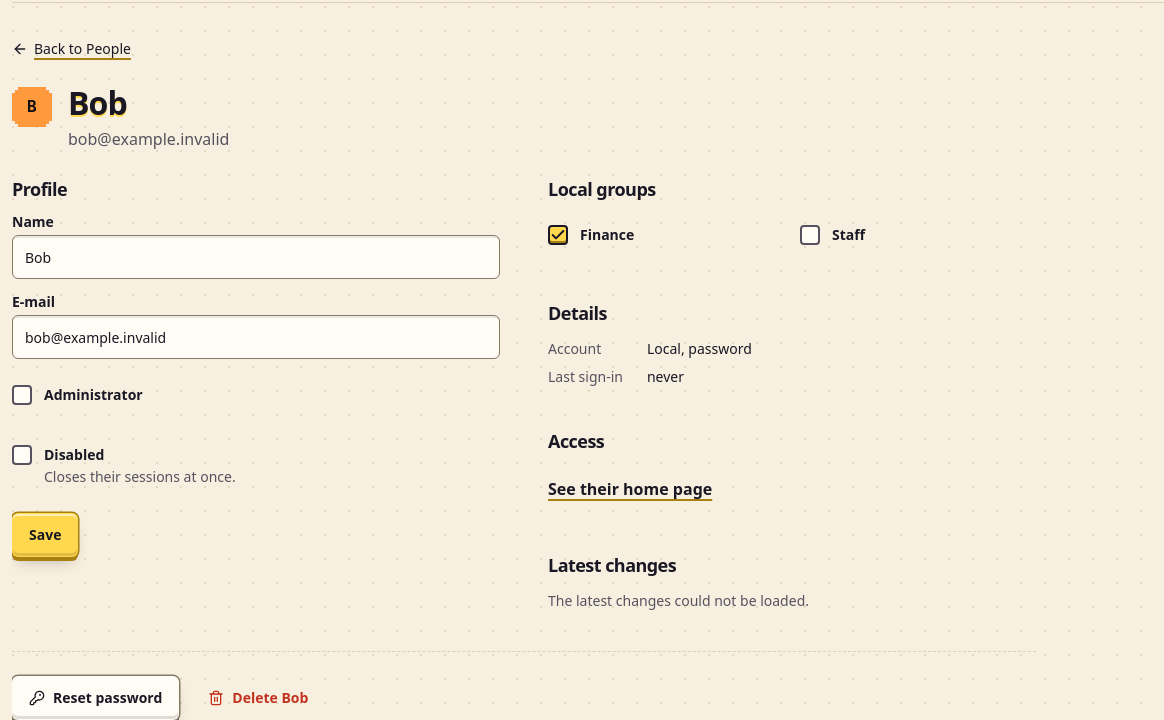
Test: PersonPage › keeps a password not noted yet when the admin goes back to the list, and recalls it there
This screenshot has width=1164, height=720.
(page scrolled)
Expected: the heading "Bob" is shown, [68,81,127,124]
Click the button "Reset password" at coordinates (96, 698), box [12,676,179,719]
(page scrolled)
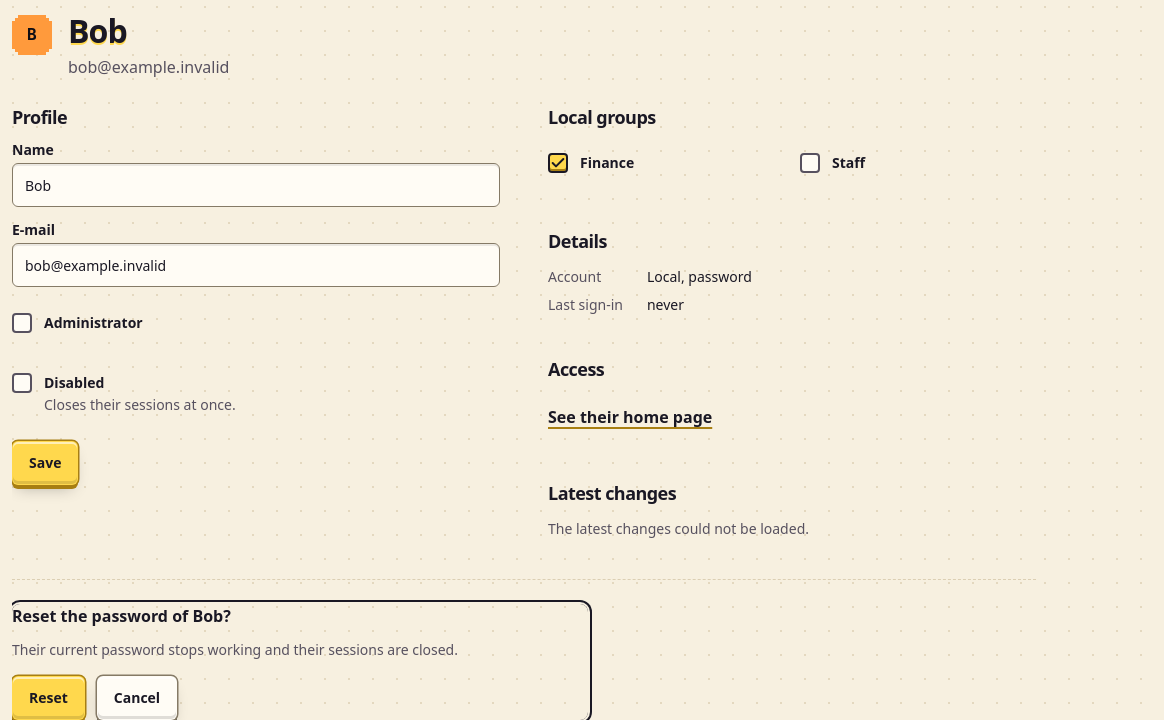
Click the button "Reset" at coordinates (48, 698), box [12,676,85,719]
(page scrolled)
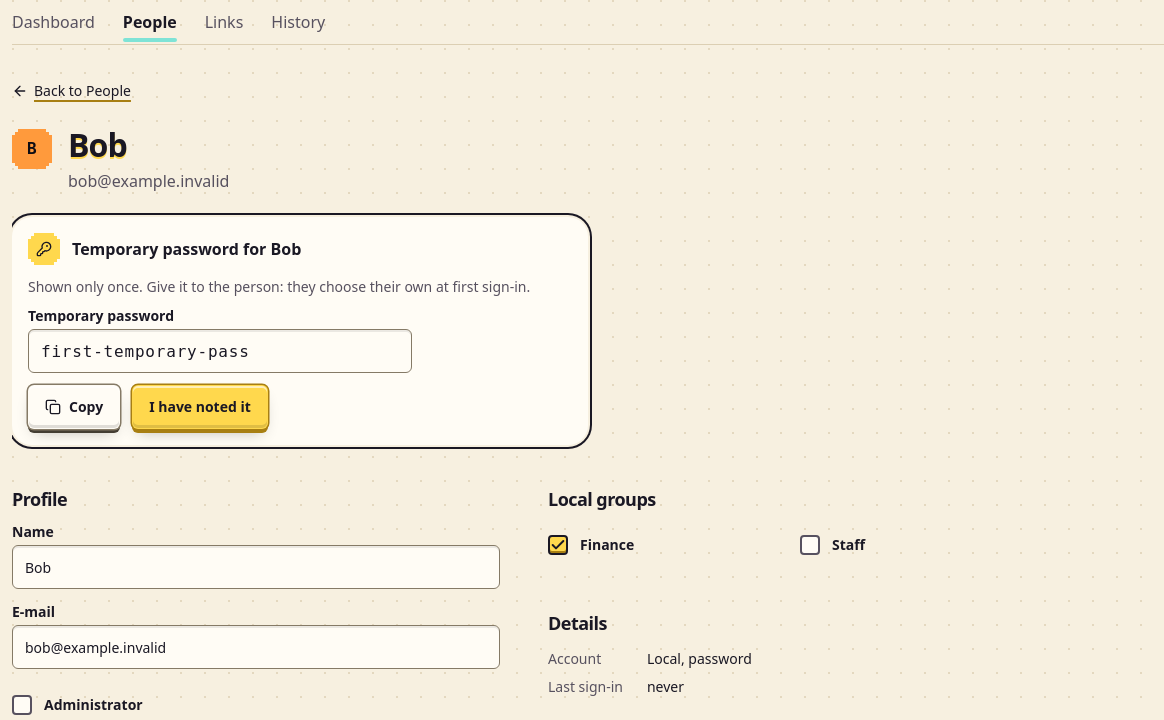
Result: the element "Temporary password for Bob" is shown at [12,217,588,445]
Click the link "Back to People" at coordinates (71, 90), box [12,81,131,100]
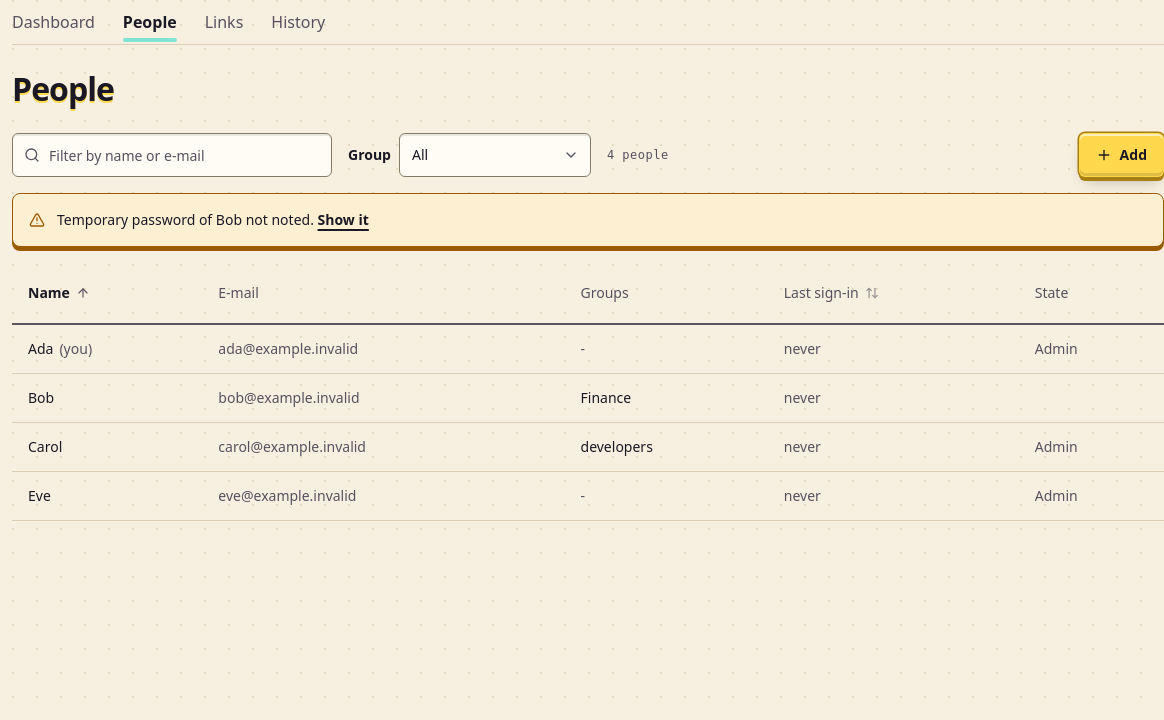
Result: the text "Temporary password of Bob not noted." is shown at [57,210,314,229]
Click the link "Show it" at coordinates (343, 220), box [318,210,369,229]
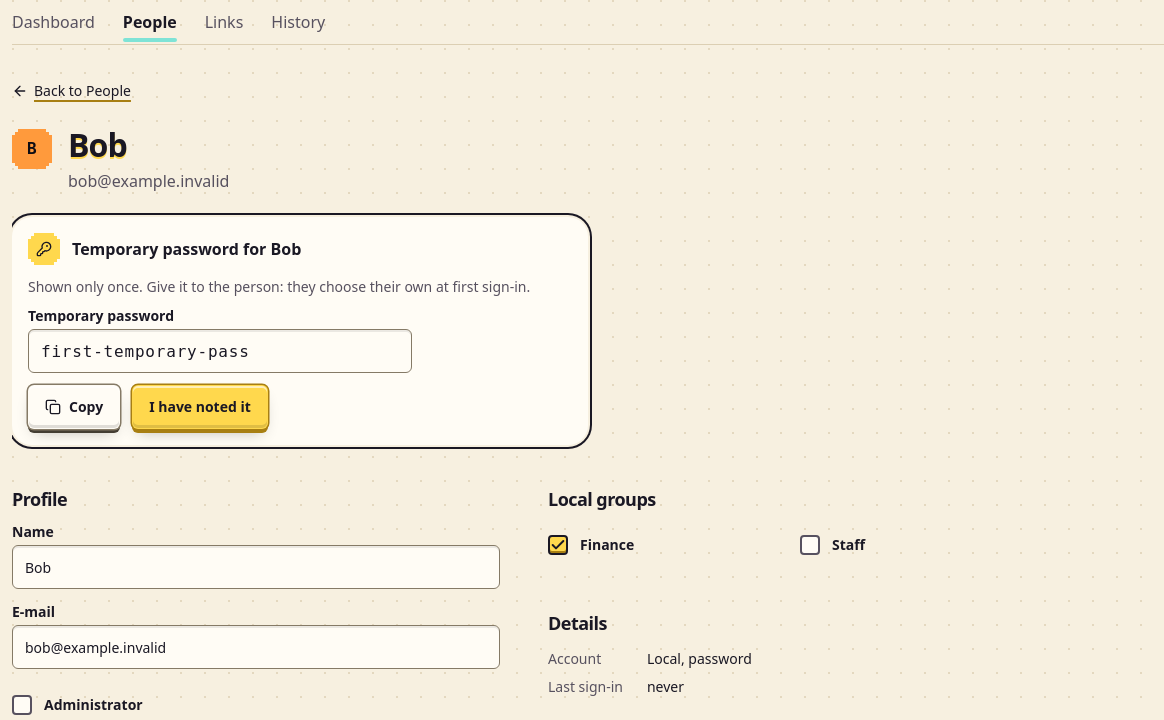
Result: the element "Temporary password for Bob" is shown at [12,217,588,445]
